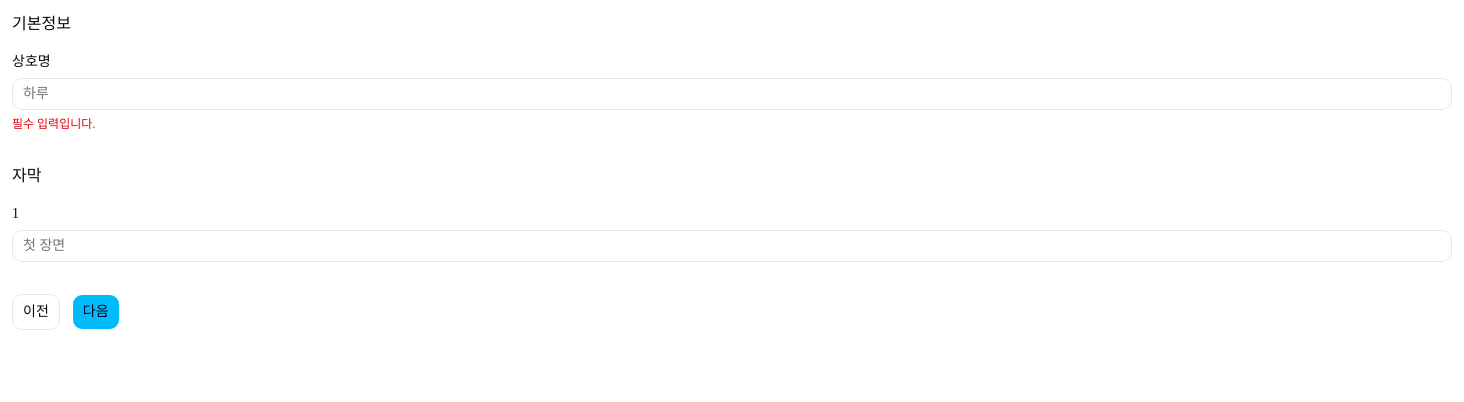
DraftTextStep › 기본정보를 모두 입력하지 않으면 다음으로 이동하지 않는다
What coordinates should you click on to do the following:
click the button "다음"
I would click on:
 (96, 312)
Its box is [72,294,120,330].
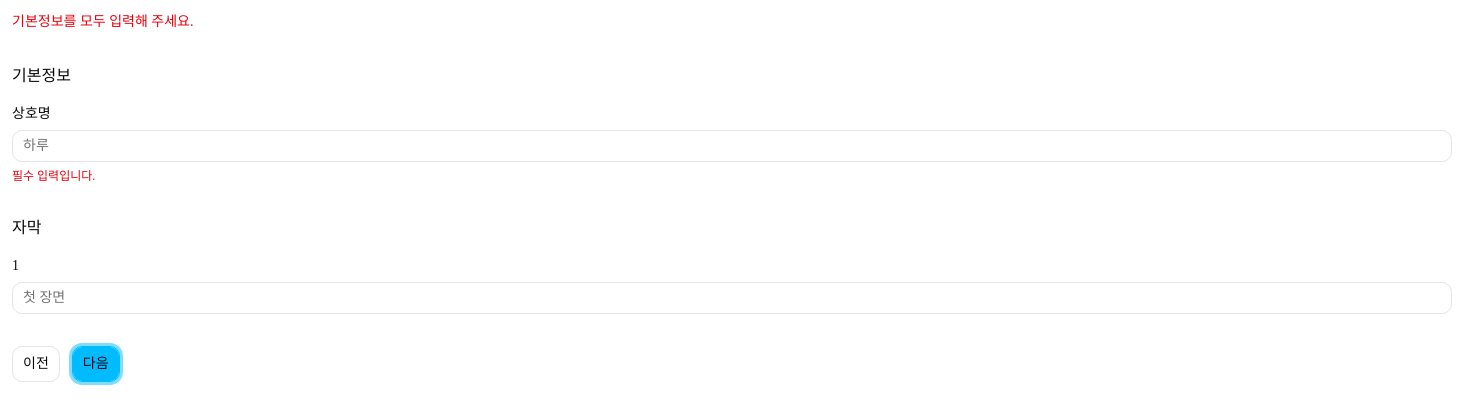
Expected: the text "기본정보를 모두 입력해 주세요." is shown, [12,14,194,29]
